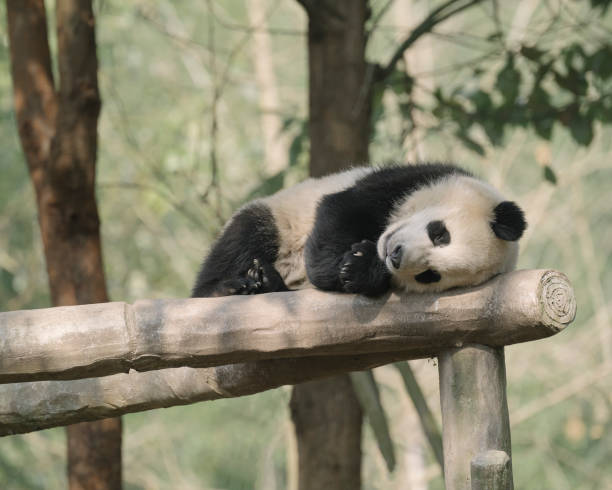panda: (375, 152, 558, 328)
